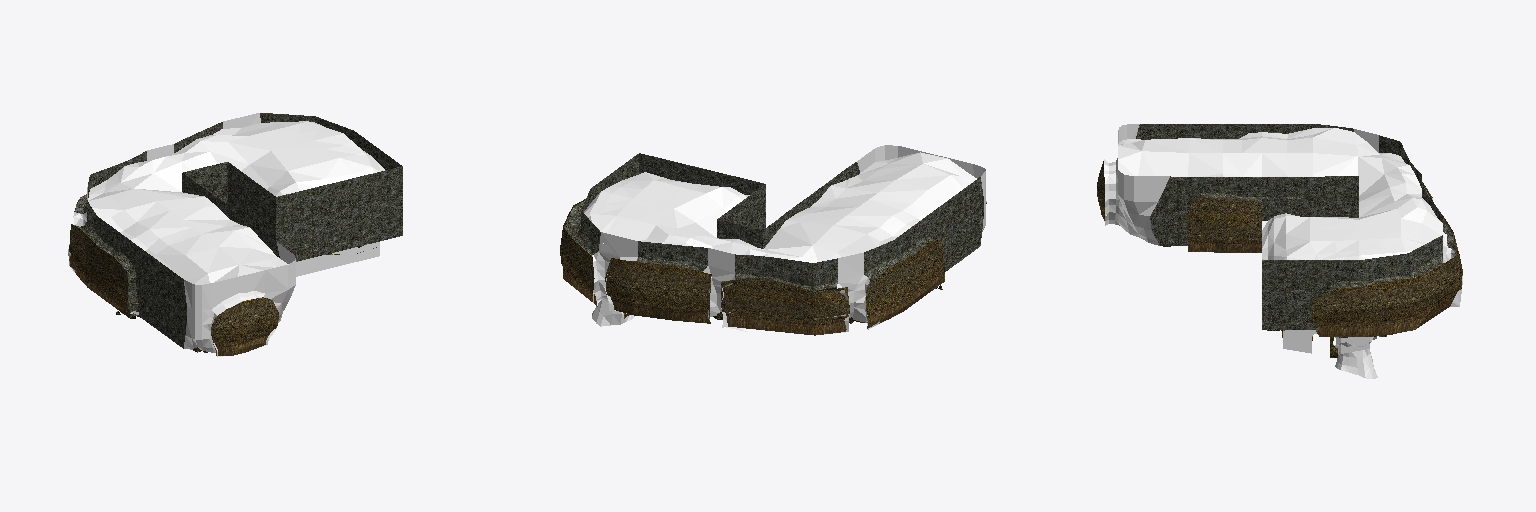
3 views of the same model, side by side, from view 1: azimuth 30°, elevation 25°; view 2: azimuth 150°, elevation 25°; view 3: azimuth 270°, elevation 25° (orthographic).
Parts seen in each view (by area): view 1: mesh3, mesh0, mesh1, mesh2; view 2: mesh3, mesh0, mesh1, mesh2, mesh6; view 3: mesh3, mesh0, mesh1, mesh2.
Part boxes in pixels (x1,y1,x2,y2): mesh3: (68,113,384,356); mesh0: (72,113,402,348); mesh1: (69,212,278,342); mesh2: (69,255,275,355); mesh3: (584,145,986,332); mesh0: (564,153,983,291); mesh1: (560,199,986,321); mesh2: (563,267,944,335); mesh6: (592,243,879,327); mesh3: (1104,124,1462,371); mesh0: (1136,124,1455,331); mesh1: (1097,161,1462,323); mesh2: (1100,208,1456,336).
Size of the model in its own units: 15.91 by 6.16 by 16.03.
Materials: 12 (6 with a texture image).